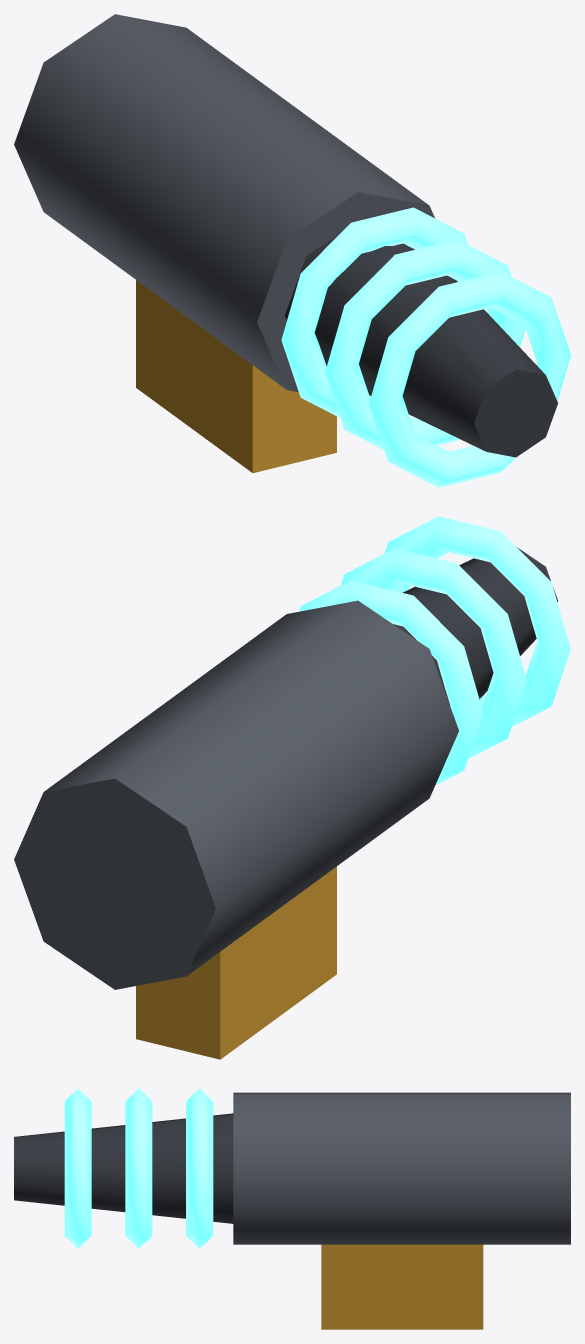
Rendered from wpn_special.glb.
3 renders of one model, top to bottom at view 1: azimuth 30°, elevation 25°; view 2: azimuth 150°, elevation 25°; view 3: azimuth 270°, elevation 25°, orthographic. The views are drawn at different scales.
Visible parts, largest first — view 1: weapon; view 2: weapon; view 3: weapon.
Part boxes in pixels (<box>): weapon: <box>14,14,570,487</box>; weapon: <box>14,516,570,1059</box>; weapon: <box>14,1088,570,1329</box>.
Size of the model in its own units: 0.24 by 0.36 by 0.825.
